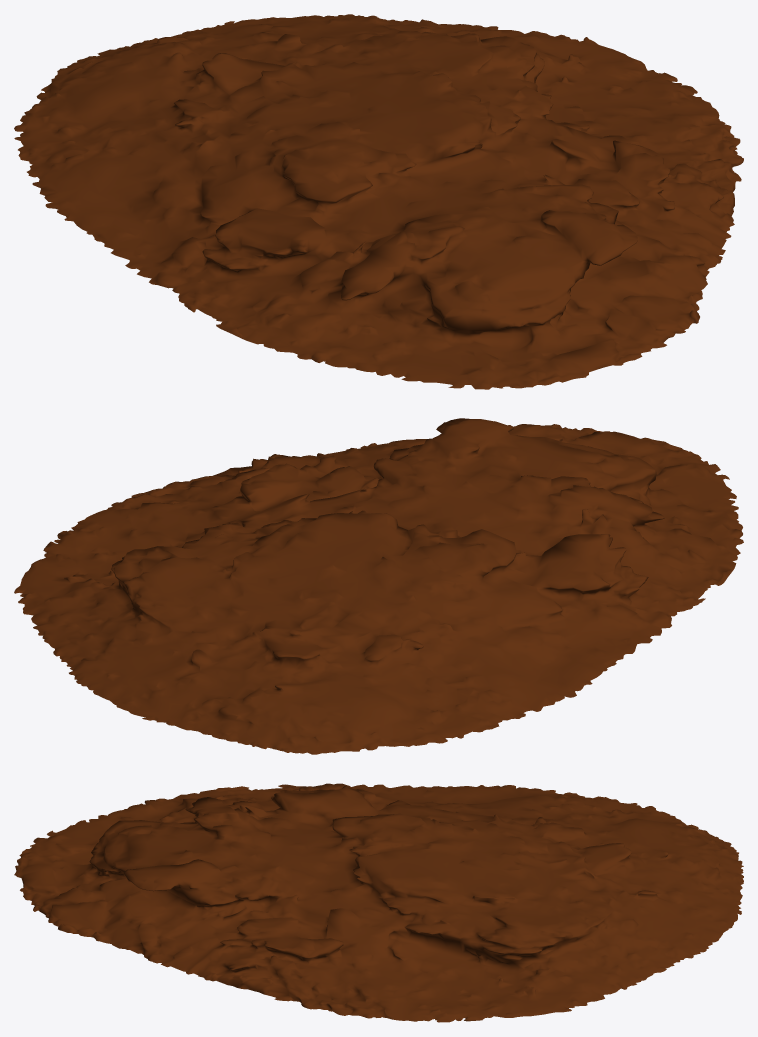
The model's file is MSH_Rocks_Flat_04.FBX.
The picture shows the model from 3 angles, top to bottom: view 1: azimuth 30°, elevation 25°; view 2: azimuth 150°, elevation 25°; view 3: azimuth 270°, elevation 25°; orthographic projection. The views are drawn at different scales.
Visible parts, largest first — view 1: MESH_LOD0; view 2: MESH_LOD0; view 3: MESH_LOD0.
Part boxes in pixels (box(x1,y1,x2,y2)): MESH_LOD0: box(14, 14, 743, 389); MESH_LOD0: box(14, 418, 743, 754); MESH_LOD0: box(14, 783, 743, 1022).
Size of what is drawn, in the model's own units: 146 by 13.22 by 189.
